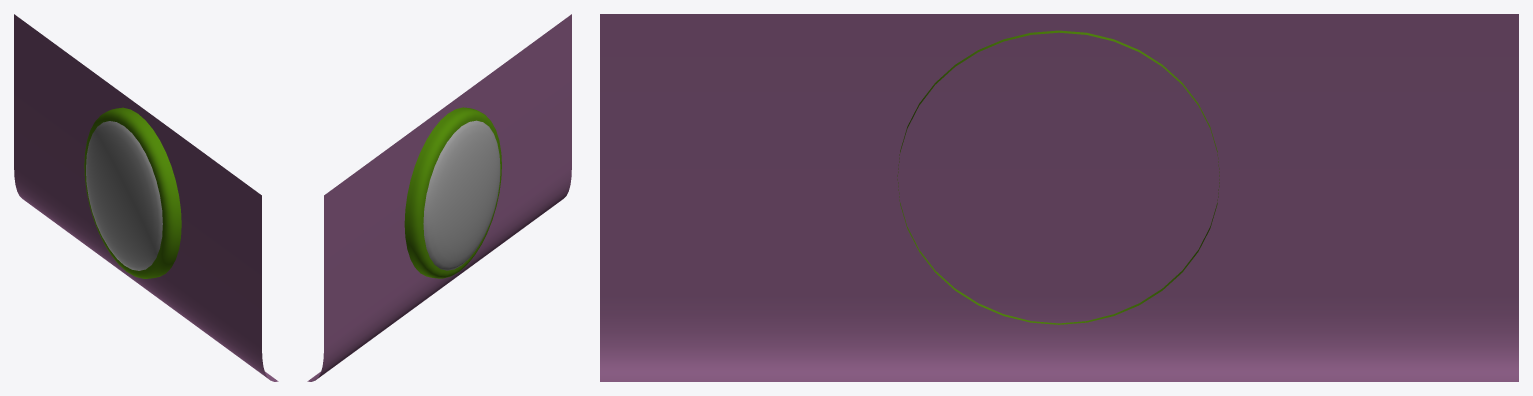
File: Endgame Upper wall with Clock.FBX
3 views of the same model, side by side, from view 1: azimuth 30°, elevation 25°; view 2: azimuth 150°, elevation 25°; view 3: azimuth 270°, elevation 25° (orthographic). The views are drawn at different scales.
Parts seen in each view (by area): view 1: Box031, Sphere003, Cylinder007; view 2: Box031, Sphere003, Cylinder007; view 3: Box031, Cylinder007.
Boxes of the visible parts, left/top/right/bottom form: Box031: left=14, top=14, right=278, bottom=381; Sphere003: left=86, top=121, right=162, bottom=270; Cylinder007: left=84, top=107, right=181, bottom=278; Box031: left=307, top=14, right=571, bottom=381; Sphere003: left=423, top=120, right=500, bottom=270; Cylinder007: left=404, top=107, right=501, bottom=278; Box031: left=600, top=14, right=1518, bottom=381; Cylinder007: left=897, top=30, right=1219, bottom=324.
Size of the model in its own units: 32.44 by 143 by 339.
